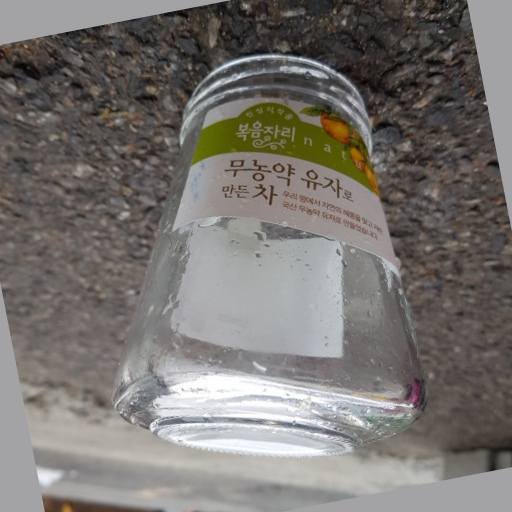Glass_5: (113, 55, 426, 461)
